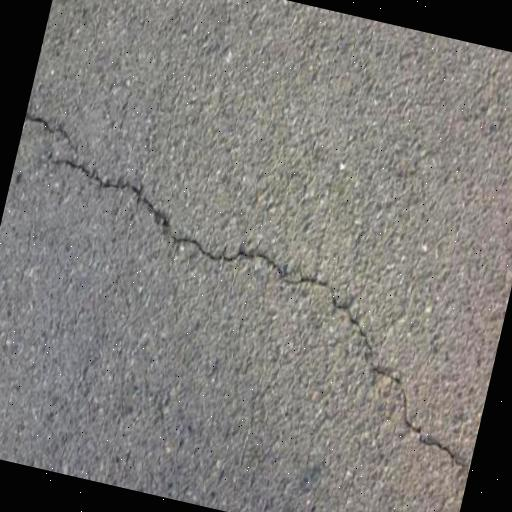spalling: (27, 92, 467, 481)
